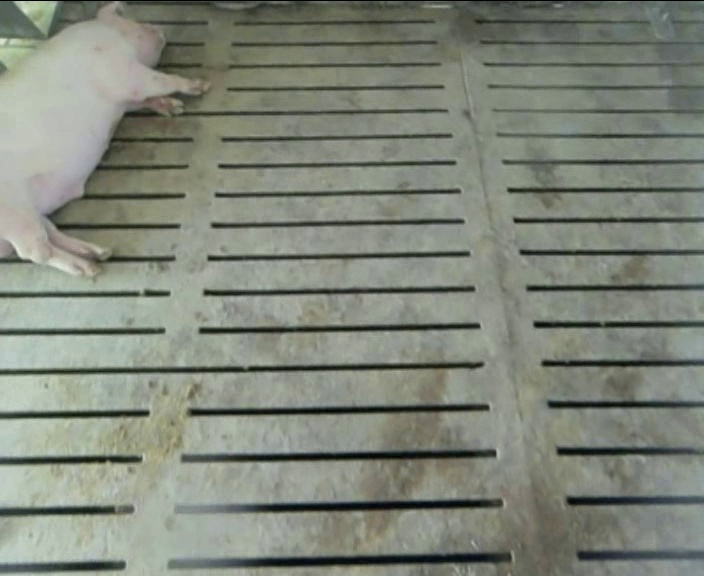pig: (0, 3, 208, 274)
